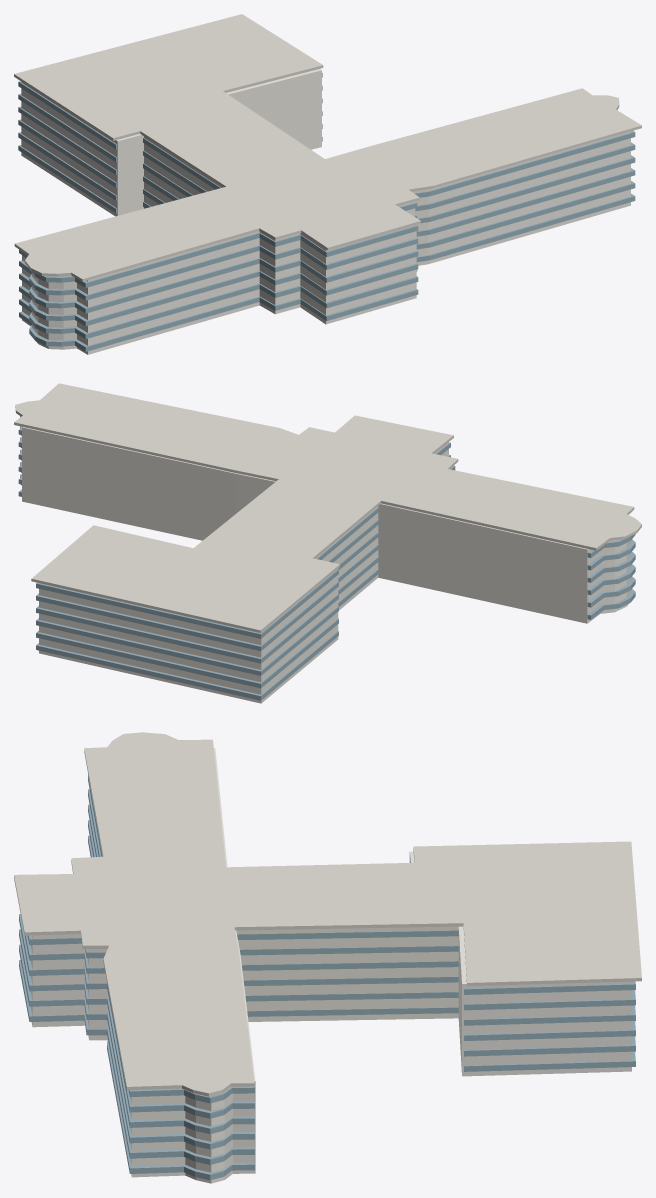
File: inya_lake_hotel.glb
3 renders of one model, top to bottom at view 1: azimuth 30°, elevation 25°; view 2: azimuth 150°, elevation 25°; view 3: azimuth 270°, elevation 25°, orthographic. The views are drawn at different scales.
Parts seen in each view (by area): view 1: part; view 2: part; view 3: part.
Boxes of the visible parts, x1=… form: part: x1=14, y1=14, x2=641, y2=354; part: x1=14, y1=383, x2=641, y2=703; part: x1=14, y1=732, x2=641, y2=1183.
Size of the model in its own units: 5441590 by 671584 by 3999279.
